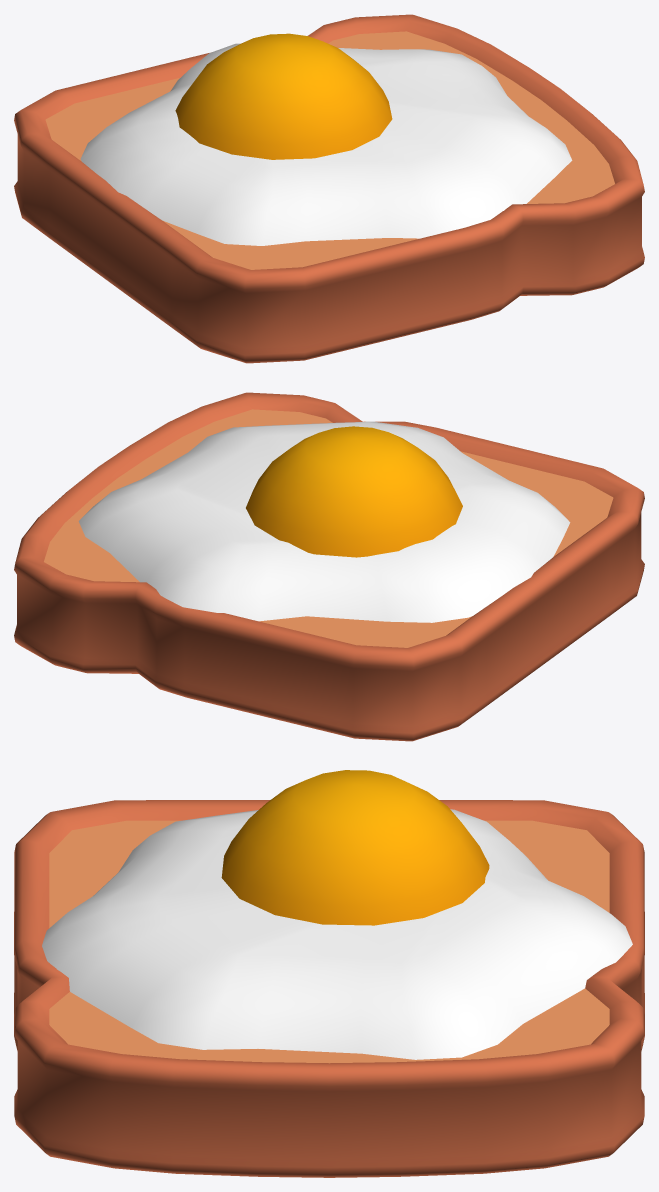
File: Toast_V1_00.fbx
3 renders of one model, top to bottom at view 1: azimuth 30°, elevation 25°; view 2: azimuth 150°, elevation 25°; view 3: azimuth 270°, elevation 25°, orthographic. The views are drawn at different scales.
Visible parts, largest first — view 1: Toast_V1_00; view 2: Toast_V1_00; view 3: Toast_V1_00.
Part boxes in pixels (x1=…): Toast_V1_00: x1=14, y1=14, x2=644, y2=363; Toast_V1_00: x1=14, y1=392, x2=644, y2=741; Toast_V1_00: x1=14, y1=770, x2=644, y2=1177.
Bounding box in the file's own units: 49.23 × 19.39 × 47.58.
